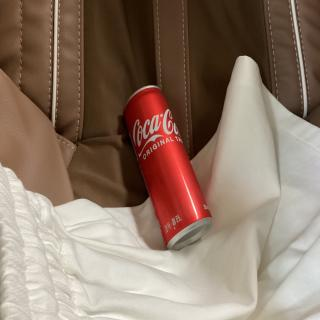cocacola: (107, 74, 217, 256)
